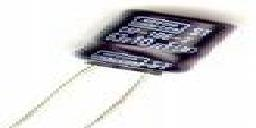Electrolytic-capacitor: (35, 1, 238, 128)
